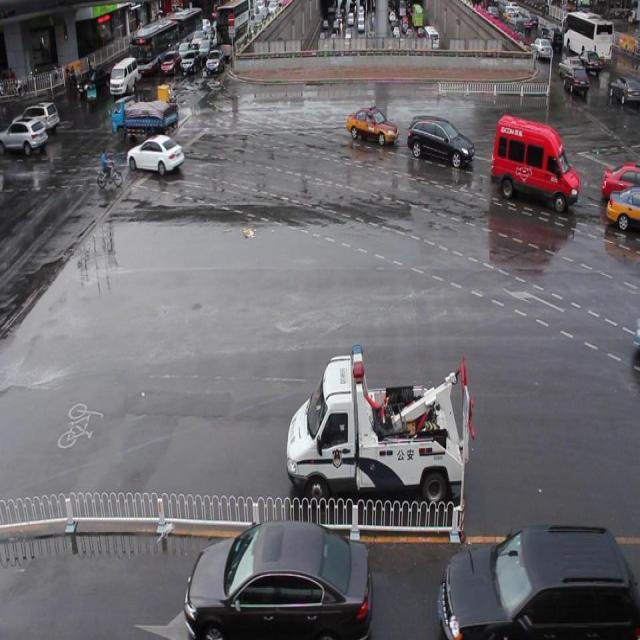bus: (287, 344, 475, 513)
car: (438, 524, 640, 640), (186, 518, 372, 640), (408, 116, 474, 170), (129, 134, 184, 175), (347, 105, 398, 145), (602, 159, 640, 202), (606, 186, 640, 231)
truck: (490, 113, 580, 213)
